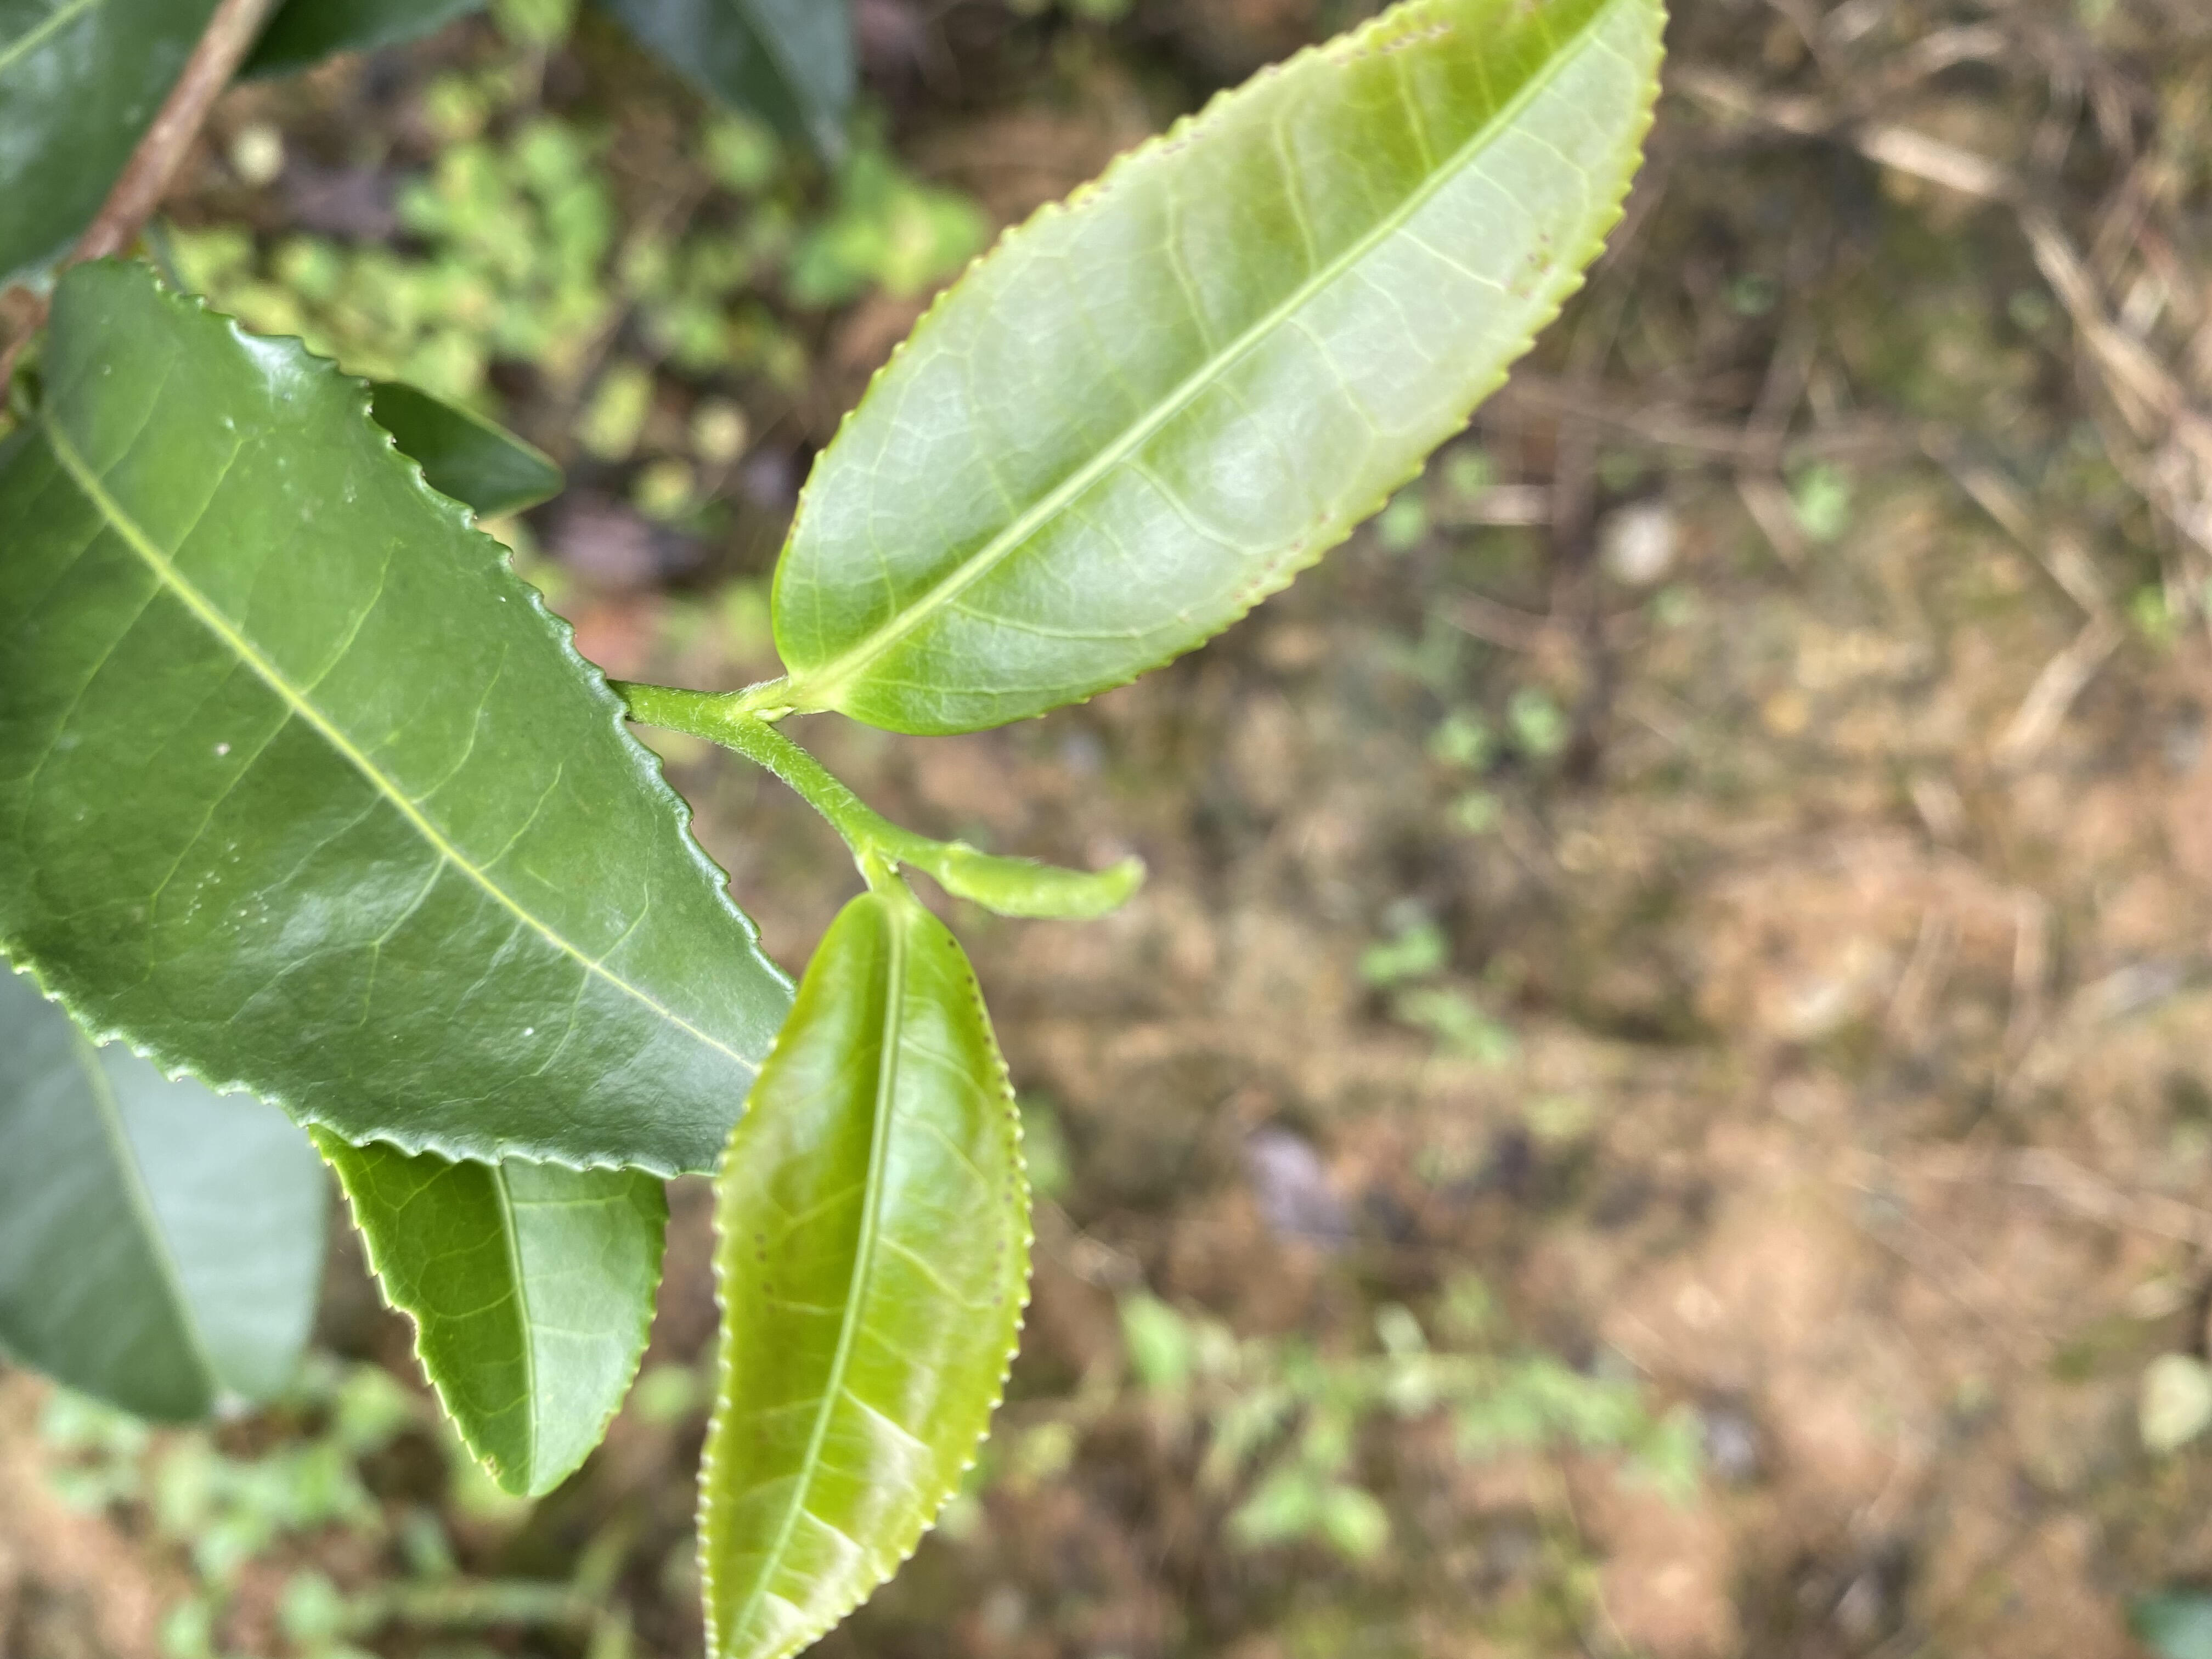healthy: (2, 256, 723, 1182), (312, 1121, 674, 1497)
tanju_low: (766, 5, 1669, 742), (693, 890, 1038, 1659)
